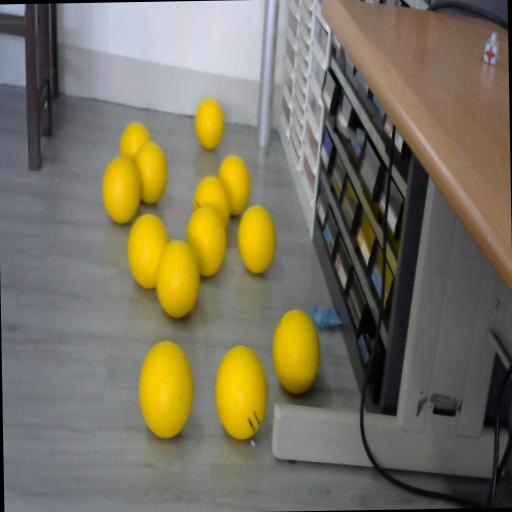FUEL: (138, 339, 194, 438), (214, 344, 269, 440), (272, 308, 320, 396), (154, 240, 200, 318), (185, 205, 228, 278), (236, 204, 276, 274), (102, 156, 142, 224), (134, 140, 169, 205), (218, 156, 252, 216), (194, 98, 224, 150)
